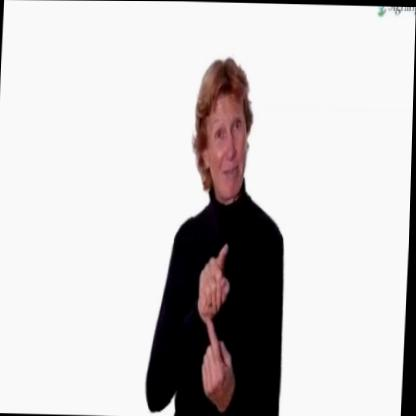NiceToMeetYou: (171, 218, 258, 416)
